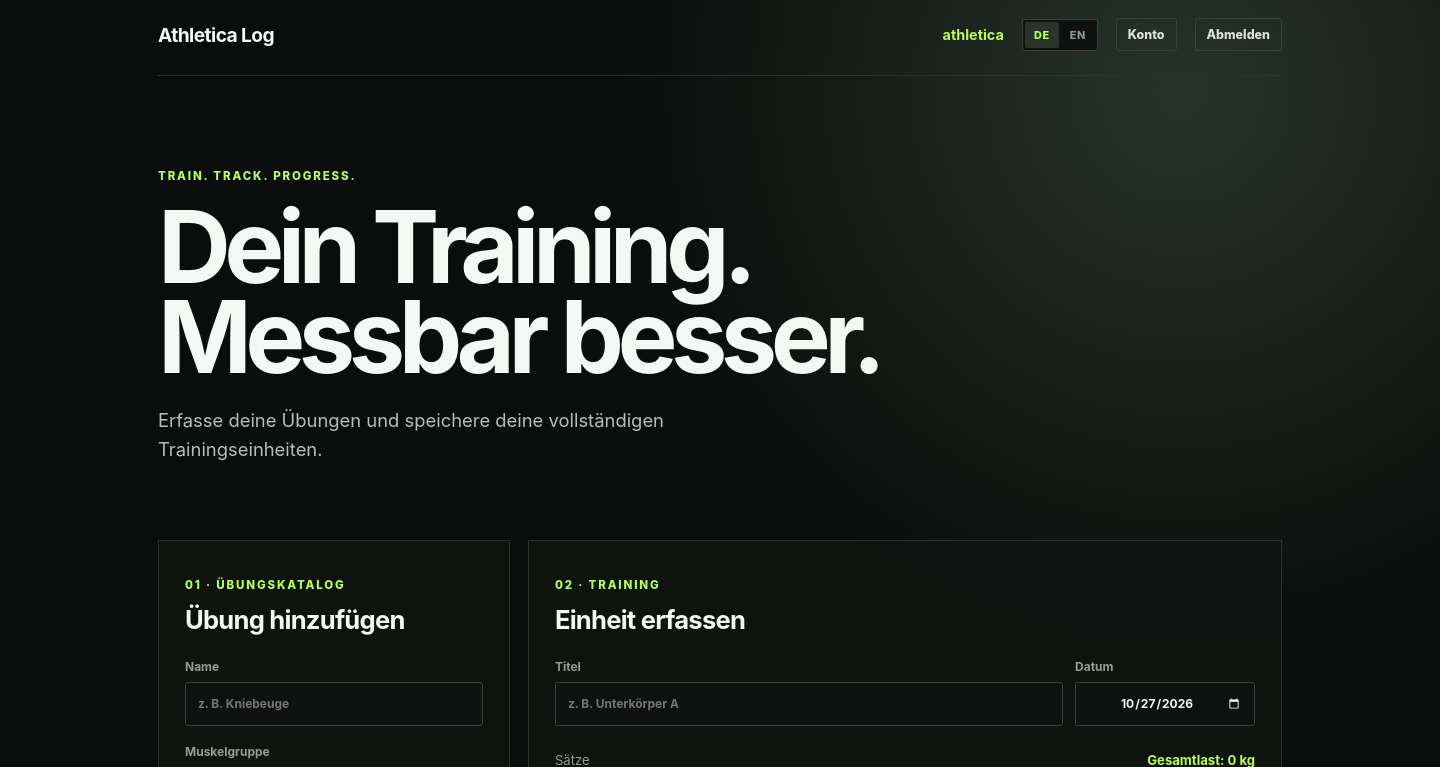
Home › shows workout save errors next to the workout form
Type "Beine" into the field labelled "Titel" at x=809, y=704, box [555,682,1063,726]
(page scrolled)
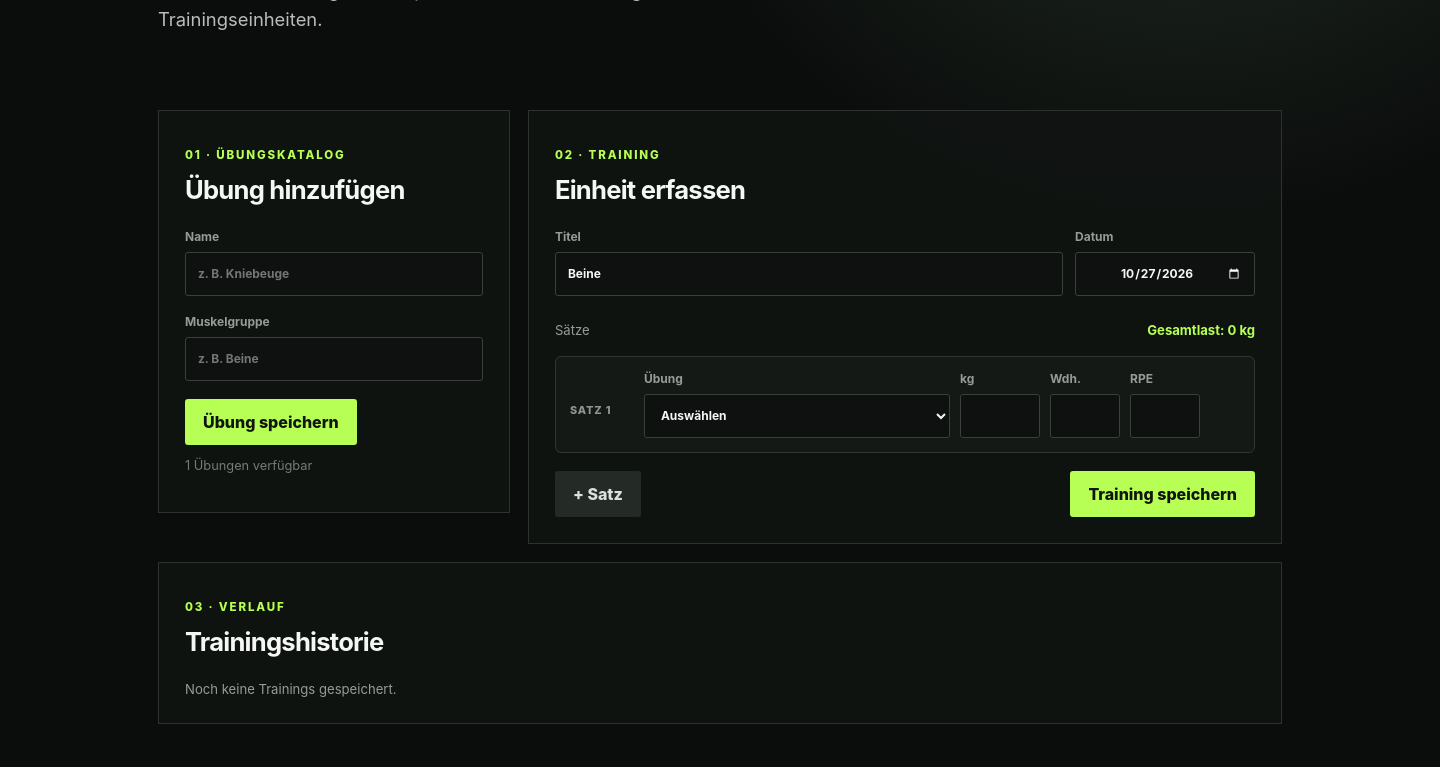
Select "Kniebeuge" in the dropdown labelled "Übung" at x=797, y=416, box [644,394,950,438]
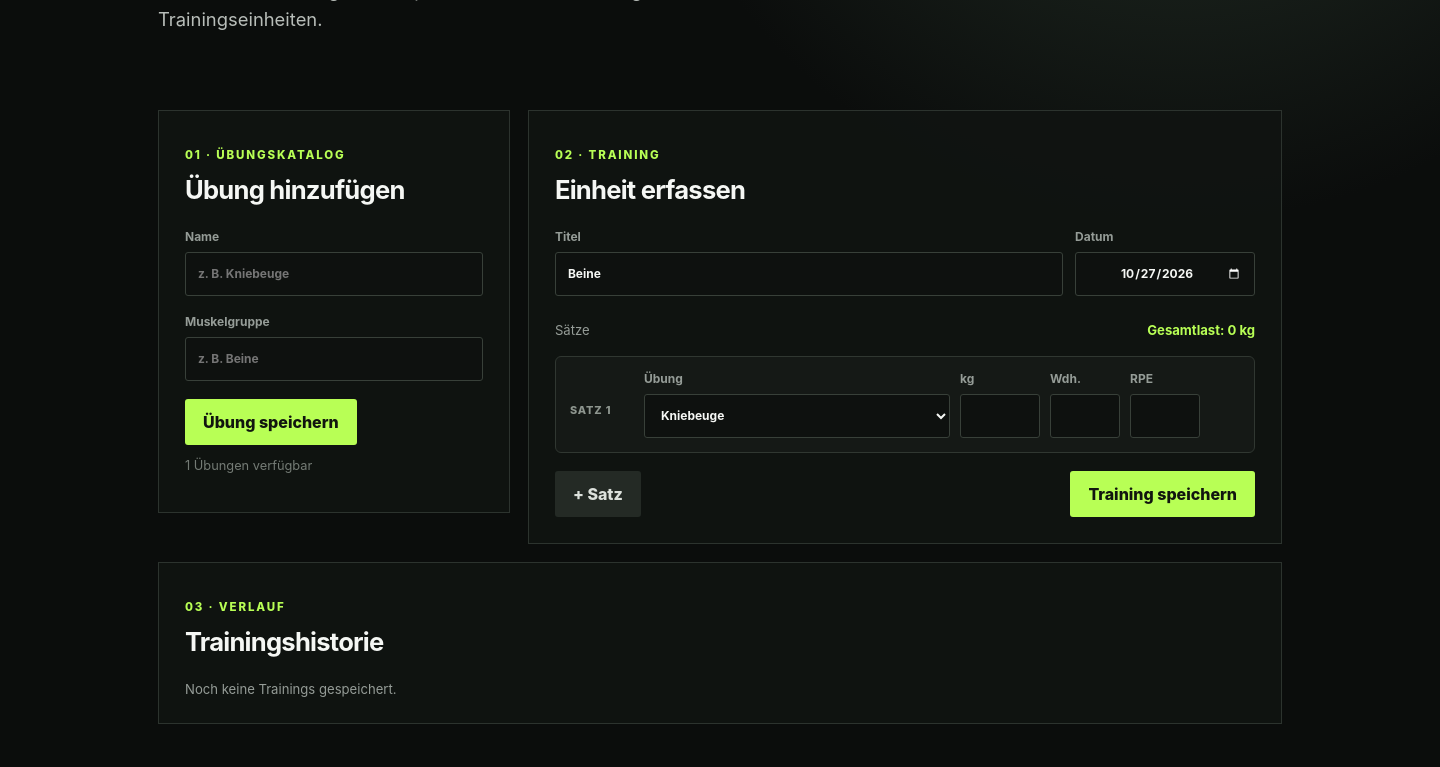
Click the button "Training speichern" at x=1163, y=494, box [1070,471,1255,517]
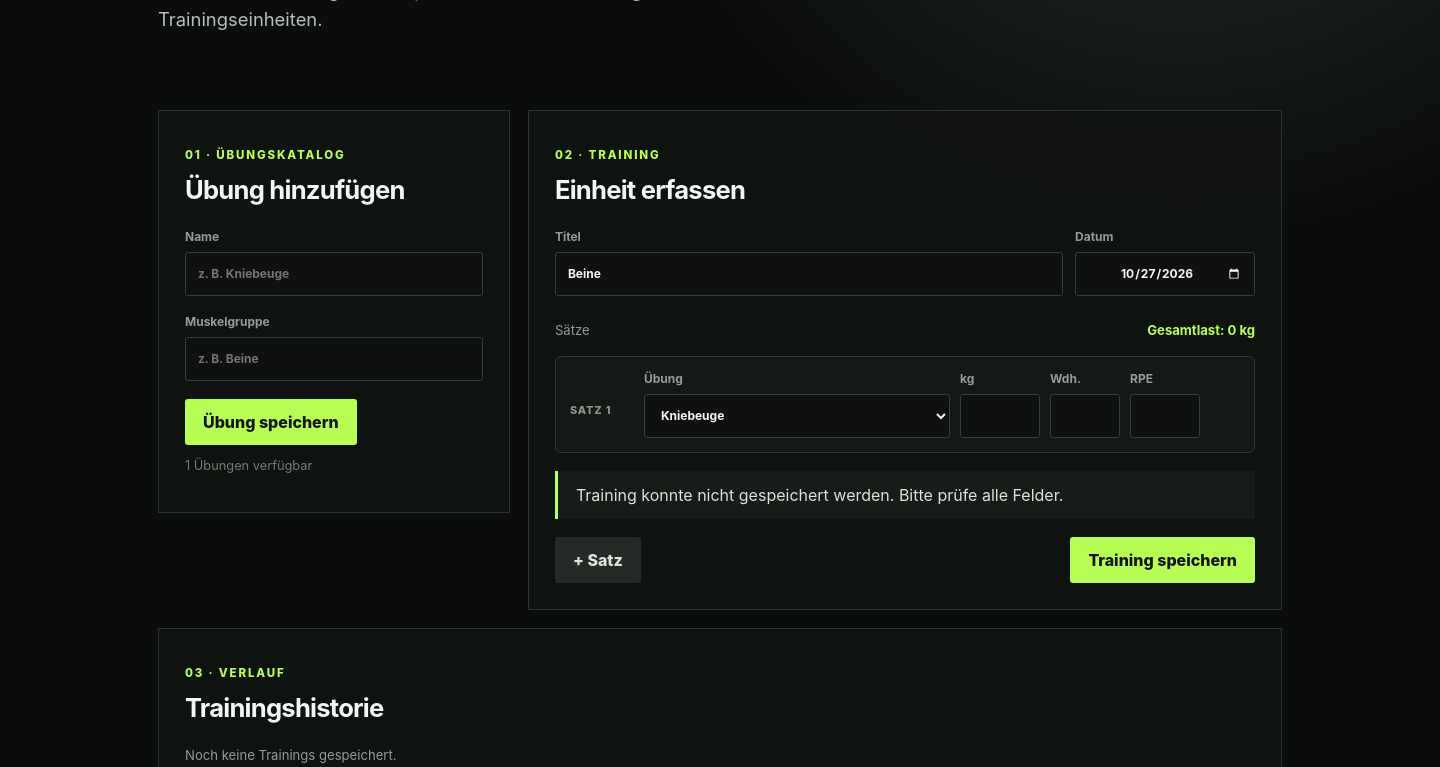
Expected: the message reads "Training konnte nicht gespeichert werden. Bitte prüfe alle Felder.", [576,485,1063,505]
